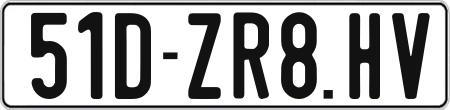1: (77, 12, 103, 101)
5: (28, 11, 66, 98)
8: (280, 9, 317, 100)
D: (112, 12, 148, 103)
H: (349, 12, 380, 104)
R: (232, 11, 268, 103)
V: (391, 10, 432, 102)
Z: (186, 12, 225, 100)
